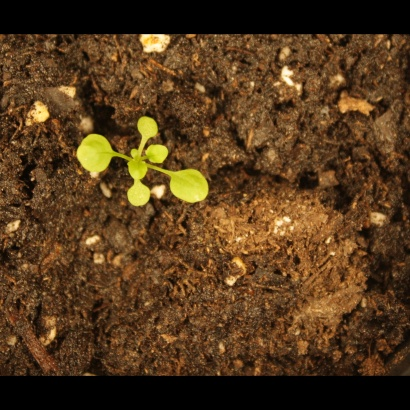leaf: (72, 128, 117, 178), (169, 158, 214, 206), (122, 180, 155, 210), (142, 139, 178, 165), (134, 112, 161, 140), (126, 157, 149, 180)
